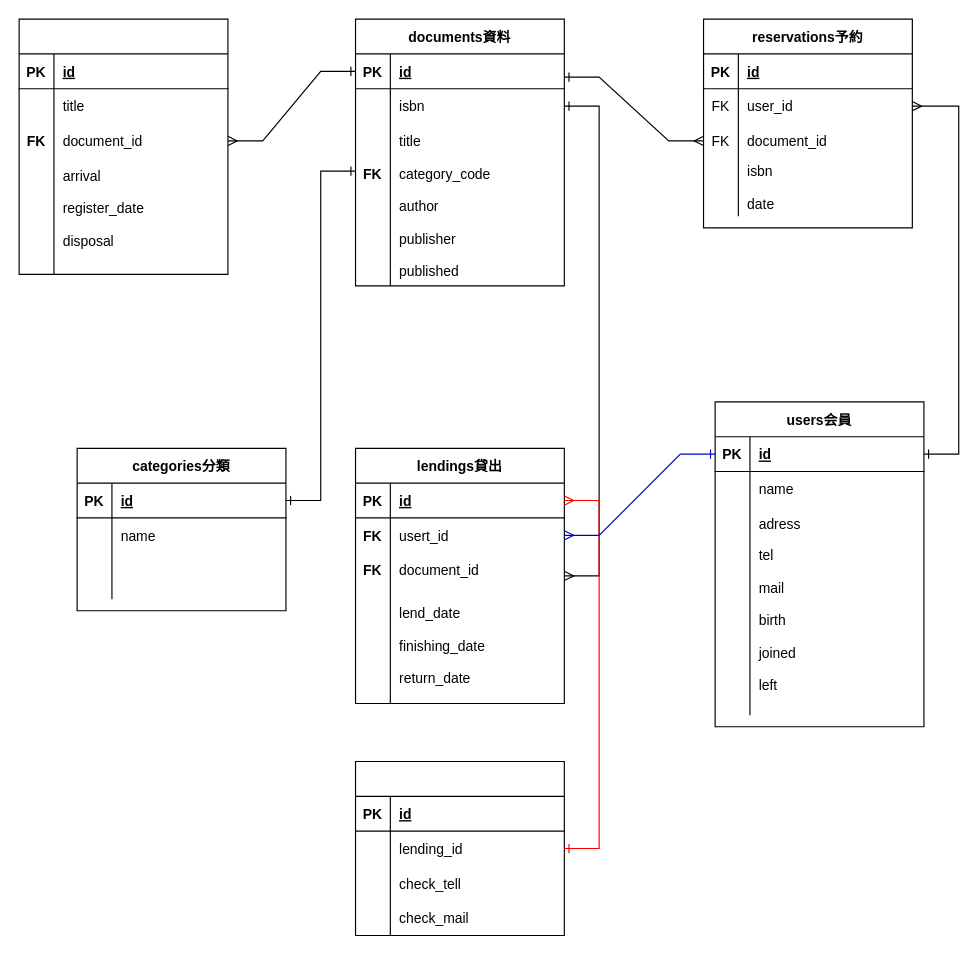
The diagram is 978 pixels wide and 955 high, and some of its shapes have lost their labels. The shapes that lost their labels are listed below. From the top down, each one's box as (x1, y1, x2, y2) in pixels, then its label:
(18, 18, 228, 274): stocks在庫
(354, 760, 564, 936): reminders督促者
